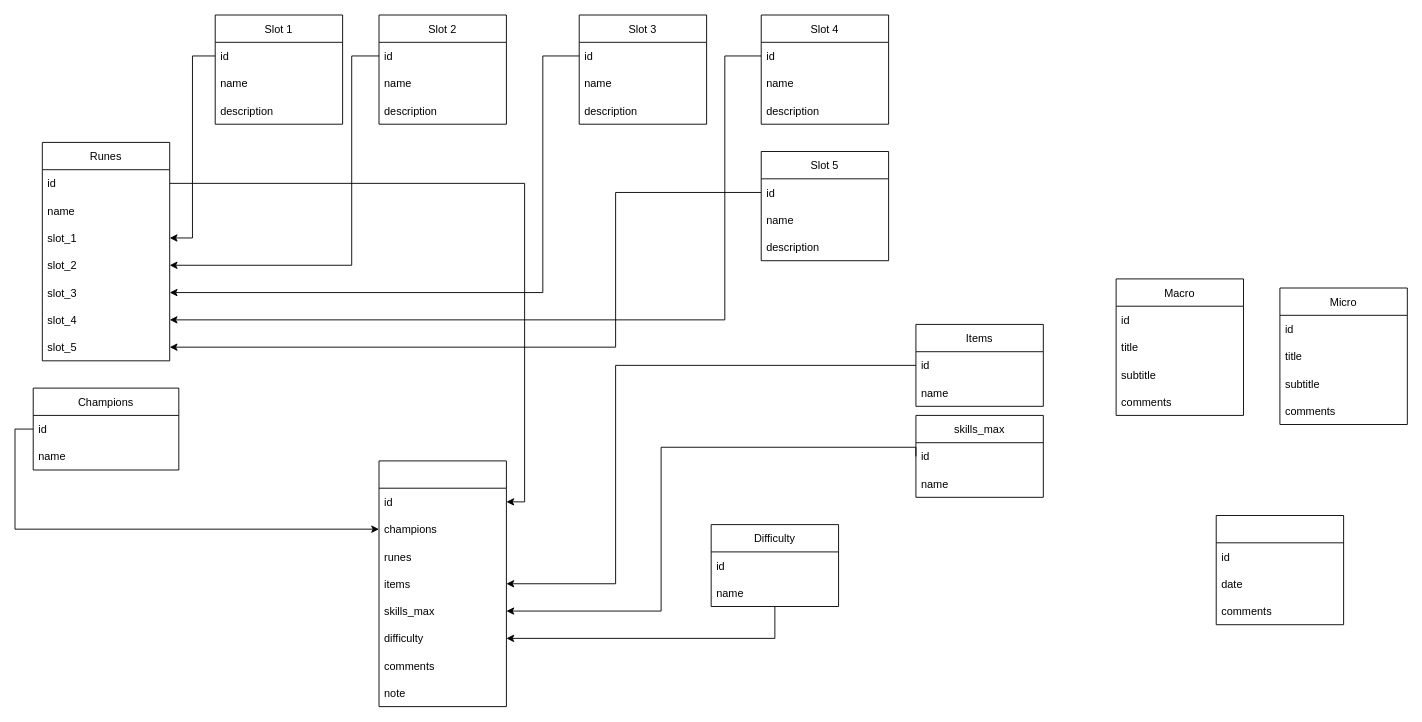
This 1422x722 diagram has some shape labels left out. Each missing label, with the box of its shape:
Logs: (1215, 515, 1344, 625)
Matchups: (378, 460, 506, 707)
